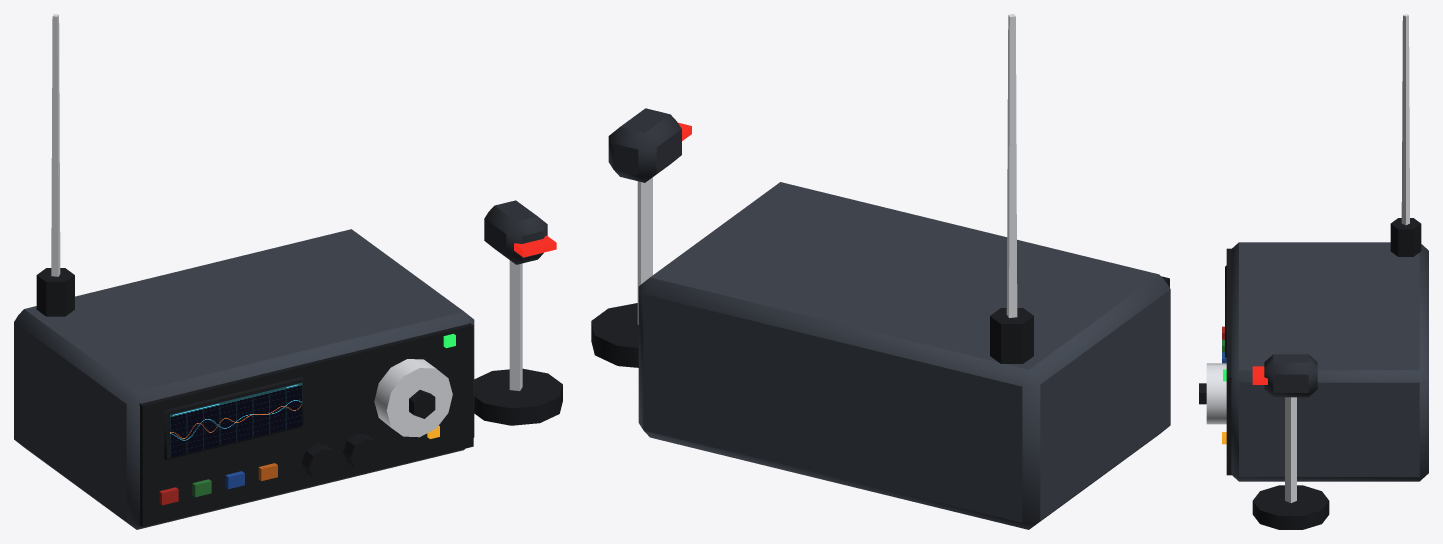
Rendered from commsunit_radio_transceiver.glb.
3 views of the same model, side by side, from view 1: azimuth 30°, elevation 25°; view 2: azimuth 150°, elevation 25°; view 3: azimuth 270°, elevation 25° (orthographic). The views are drawn at different scales.
Visible parts, largest first — view 1: commsunit_radio_transceiver; view 2: commsunit_radio_transceiver; view 3: commsunit_radio_transceiver.
Boxes of the visible parts, left/top/right/bottom form: commsunit_radio_transceiver: left=14, top=14, right=562, bottom=529; commsunit_radio_transceiver: left=591, top=14, right=1170, bottom=529; commsunit_radio_transceiver: left=1199, top=14, right=1428, bottom=529.
Bounding box in the file's own units: 0.5576 × 0.5 × 0.3.
Materials: 12 (1 with a texture image).
